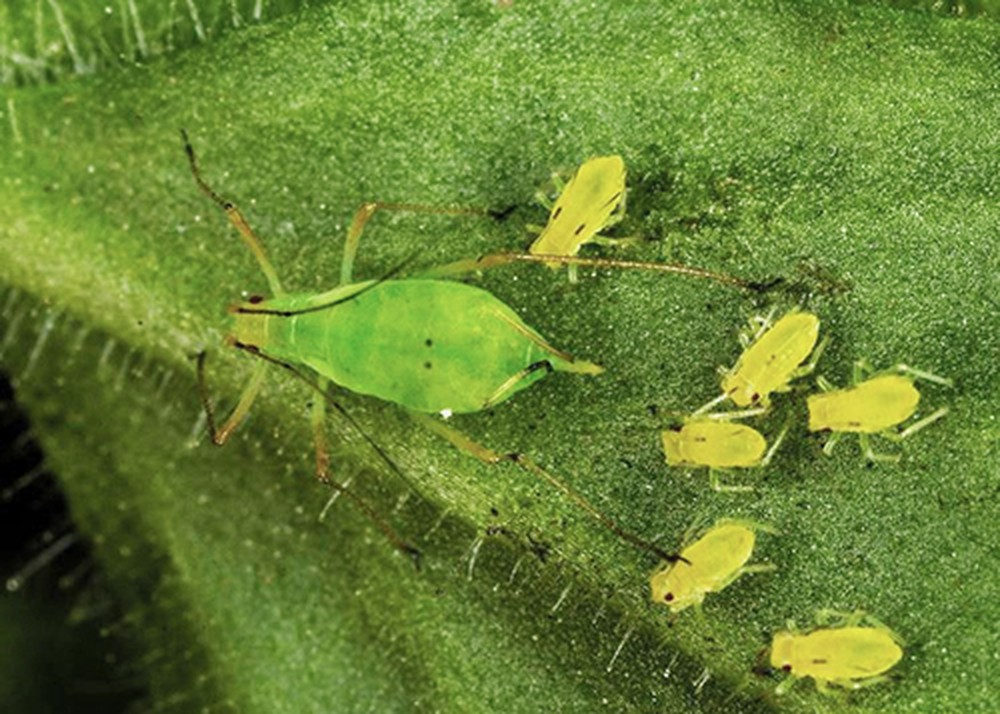Pulgon: (170, 173, 612, 543), (505, 141, 656, 325), (794, 344, 966, 487), (684, 280, 820, 414), (630, 505, 784, 620), (763, 595, 918, 703), (654, 389, 802, 500)
